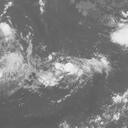cyclone: (36, 54, 110, 89)
